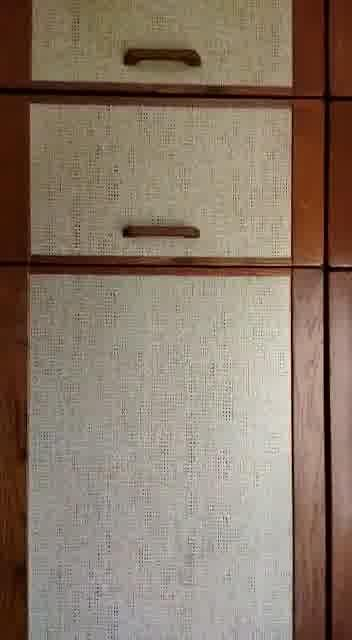cabinet_door: (4, 91, 352, 267), (3, 1, 351, 94)
handle: (118, 38, 206, 73), (117, 215, 203, 245)
